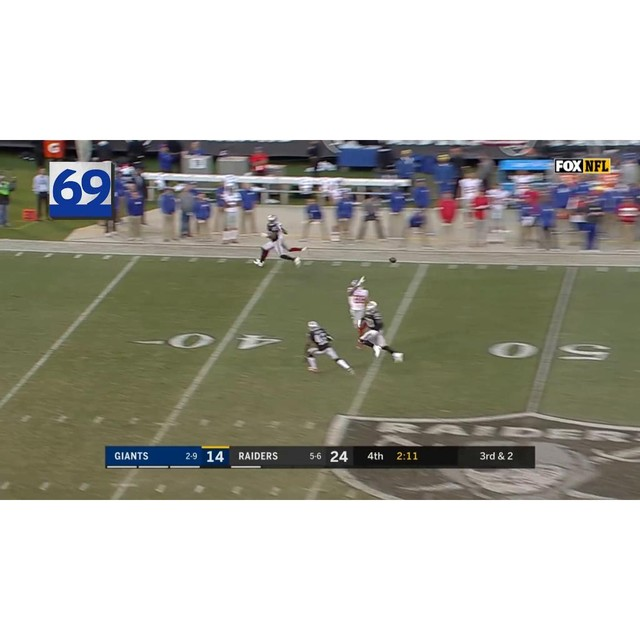american-football-player: (305, 319, 355, 375), (358, 301, 402, 363), (255, 215, 302, 268), (345, 278, 370, 334)
